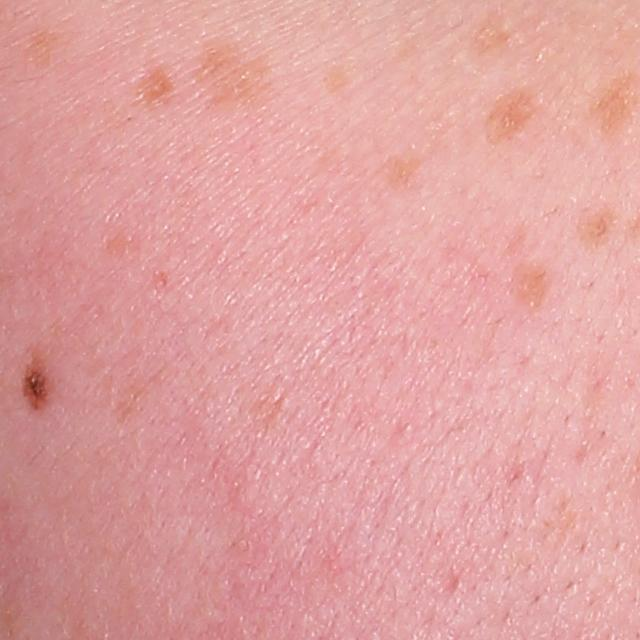melasma: (189, 45, 279, 125), (597, 67, 632, 155), (484, 95, 537, 153), (121, 49, 168, 111), (88, 373, 140, 428), (504, 265, 553, 320), (573, 196, 620, 250), (462, 2, 502, 62), (239, 386, 288, 432), (369, 157, 427, 195), (17, 28, 55, 69)
